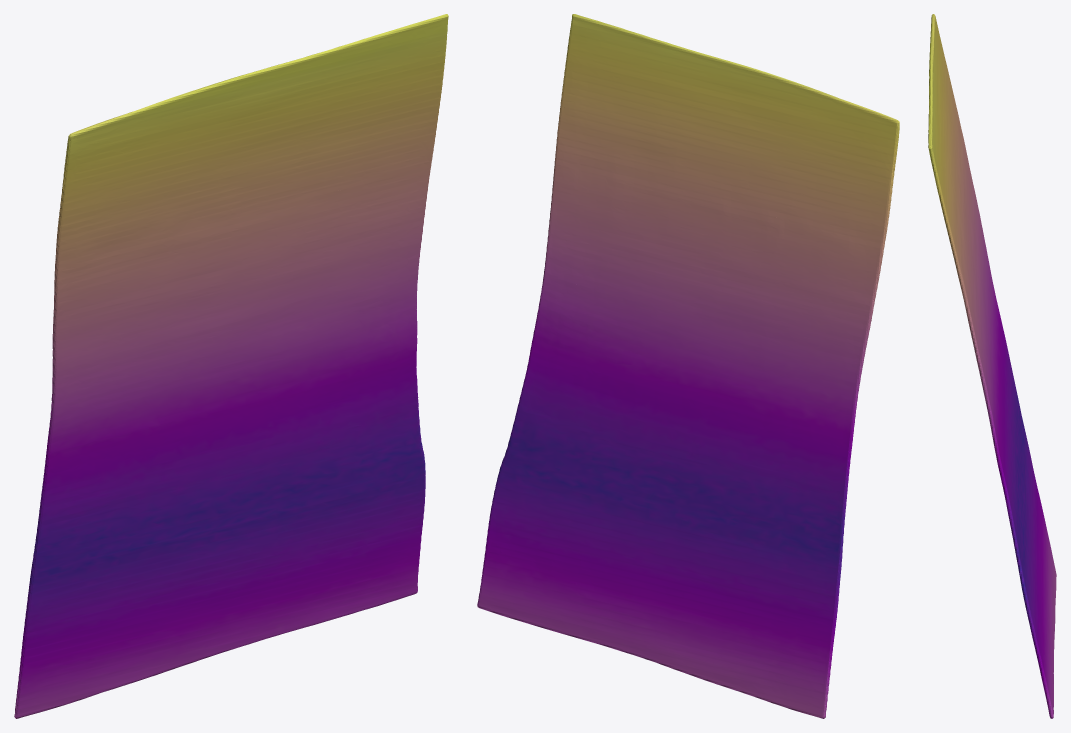
File: iter_3.glb
3 renders of one model, left to right at view 1: azimuth 30°, elevation 25°; view 2: azimuth 150°, elevation 25°; view 3: azimuth 270°, elevation 25°, orthographic. The views are drawn at different scales.
Visible parts, largest first — view 1: textured_mesh; view 2: textured_mesh; view 3: textured_mesh.
Part boxes in pixels (x1,y1,x2,y2): textured_mesh: (14, 14, 448, 718); textured_mesh: (477, 14, 899, 718); textured_mesh: (928, 14, 1056, 718).
Size of the model in its own units: 1.3 by 1.99 by 0.3984.
